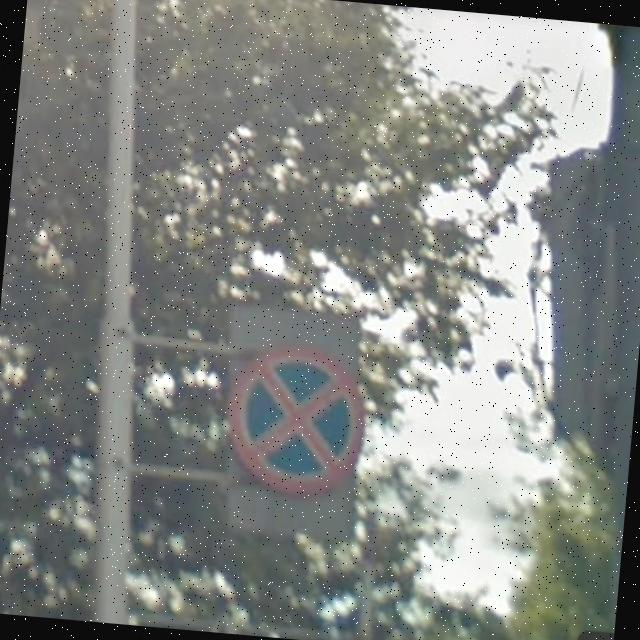Zakaz zatrzymywania sie: (213, 335, 382, 512)
